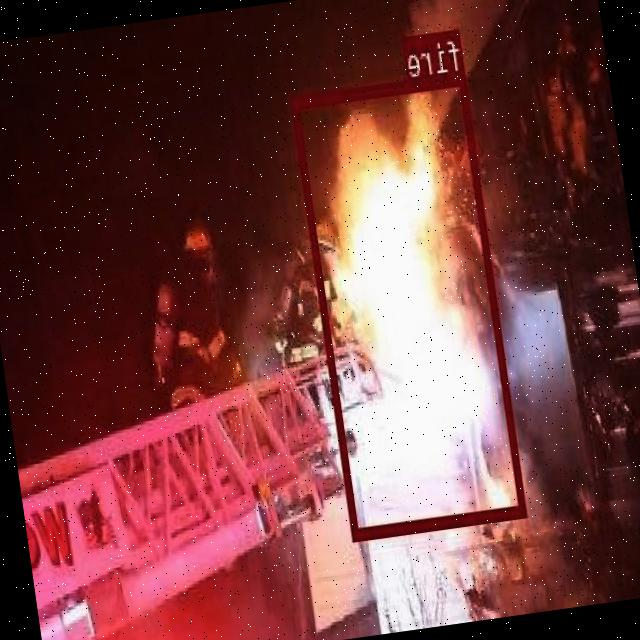fire: (292, 71, 529, 539)
